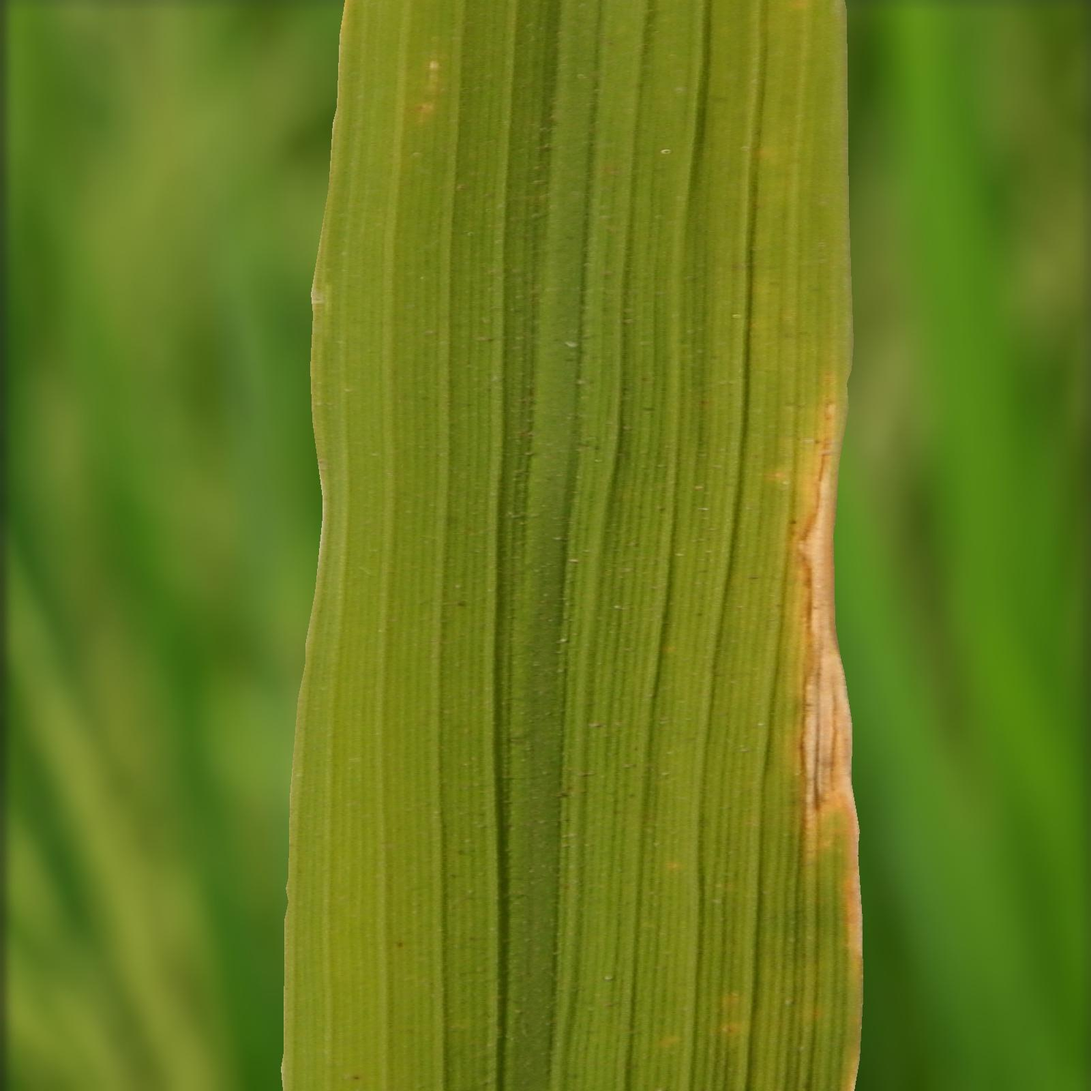BLS: (797, 395, 858, 857), (848, 859, 861, 963)
LEAF: (281, 0, 863, 1090)
